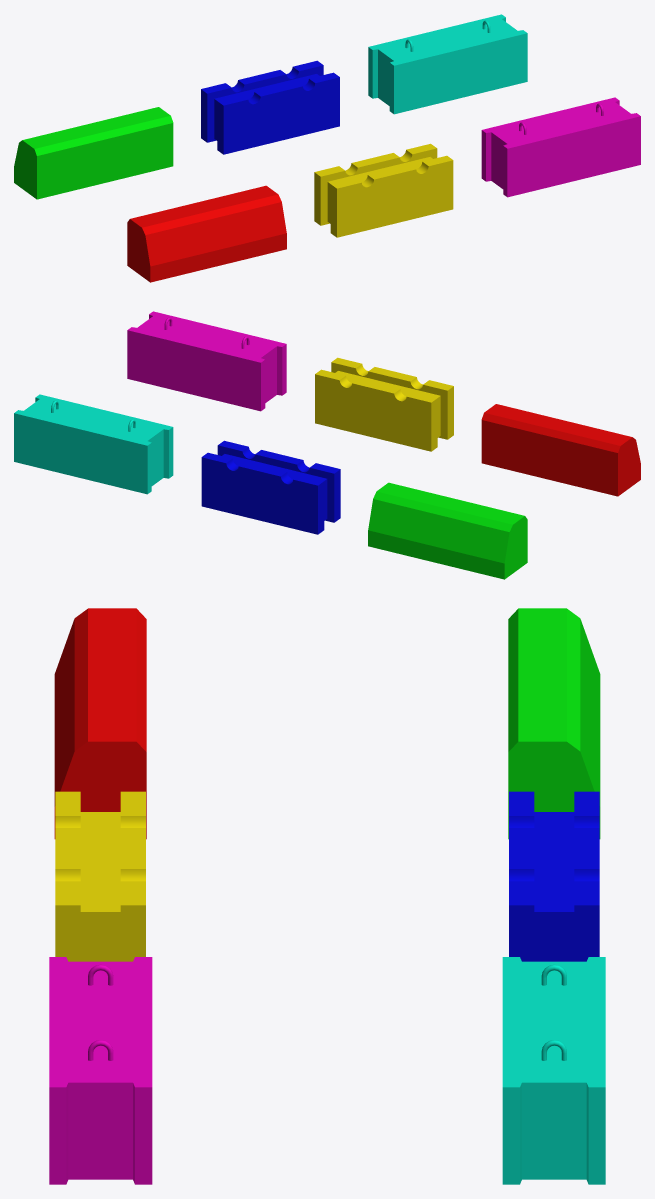
Rendered from Blocks.fbx.
3 views of the same model, one above another, from view 1: azimuth 30°, elevation 25°; view 2: azimuth 150°, elevation 25°; view 3: azimuth 270°, elevation 25° (orthographic). The views are drawn at different scales.
Visible parts, largest first — view 1: Block2_moss, Block2_default, Block3_default, Block3_moss, Block1_default, Block1_moss; view 2: Block2_default, Block2_moss, Block3_moss, Block3_default, Block1_moss, Block1_default; view 3: Block2_default, Block2_moss, Block3_default, Block3_moss, Block1_default, Block1_moss.
Boxes of the visible parts, x1=… form: Block2_moss: x1=368, y1=14, x2=527, y2=114; Block2_default: x1=481, y1=97, x2=640, y2=197; Block3_default: x1=127, y1=185, x2=286, y2=282; Block3_moss: x1=14, y1=107, x2=173, y2=199; Block1_default: x1=314, y1=143, x2=453, y2=237; Block1_moss: x1=201, y1=60, x2=339, y2=154; Block2_default: x1=127, y1=311, x2=286, y2=411; Block2_moss: x1=14, y1=394, x2=173, y2=494; Block3_moss: x1=368, y1=482, x2=527, y2=579; Block3_default: x1=481, y1=404, x2=640, y2=496; Block1_moss: x1=201, y1=440, x2=340, y2=534; Block1_default: x1=315, y1=357, x2=453, y2=451; Block2_default: x1=49, y1=957, x2=152, y2=1184; Block2_moss: x1=502, y1=957, x2=605, y2=1184; Block3_default: x1=54, y1=608, x2=146, y2=839; Block3_moss: x1=508, y1=608, x2=600, y2=839; Block1_default: x1=55, y1=791, x2=145, y2=961; Block1_moss: x1=509, y1=791, x2=599, y2=961.
Bounding box in the file's own units: 2491 × 285 × 1227.
